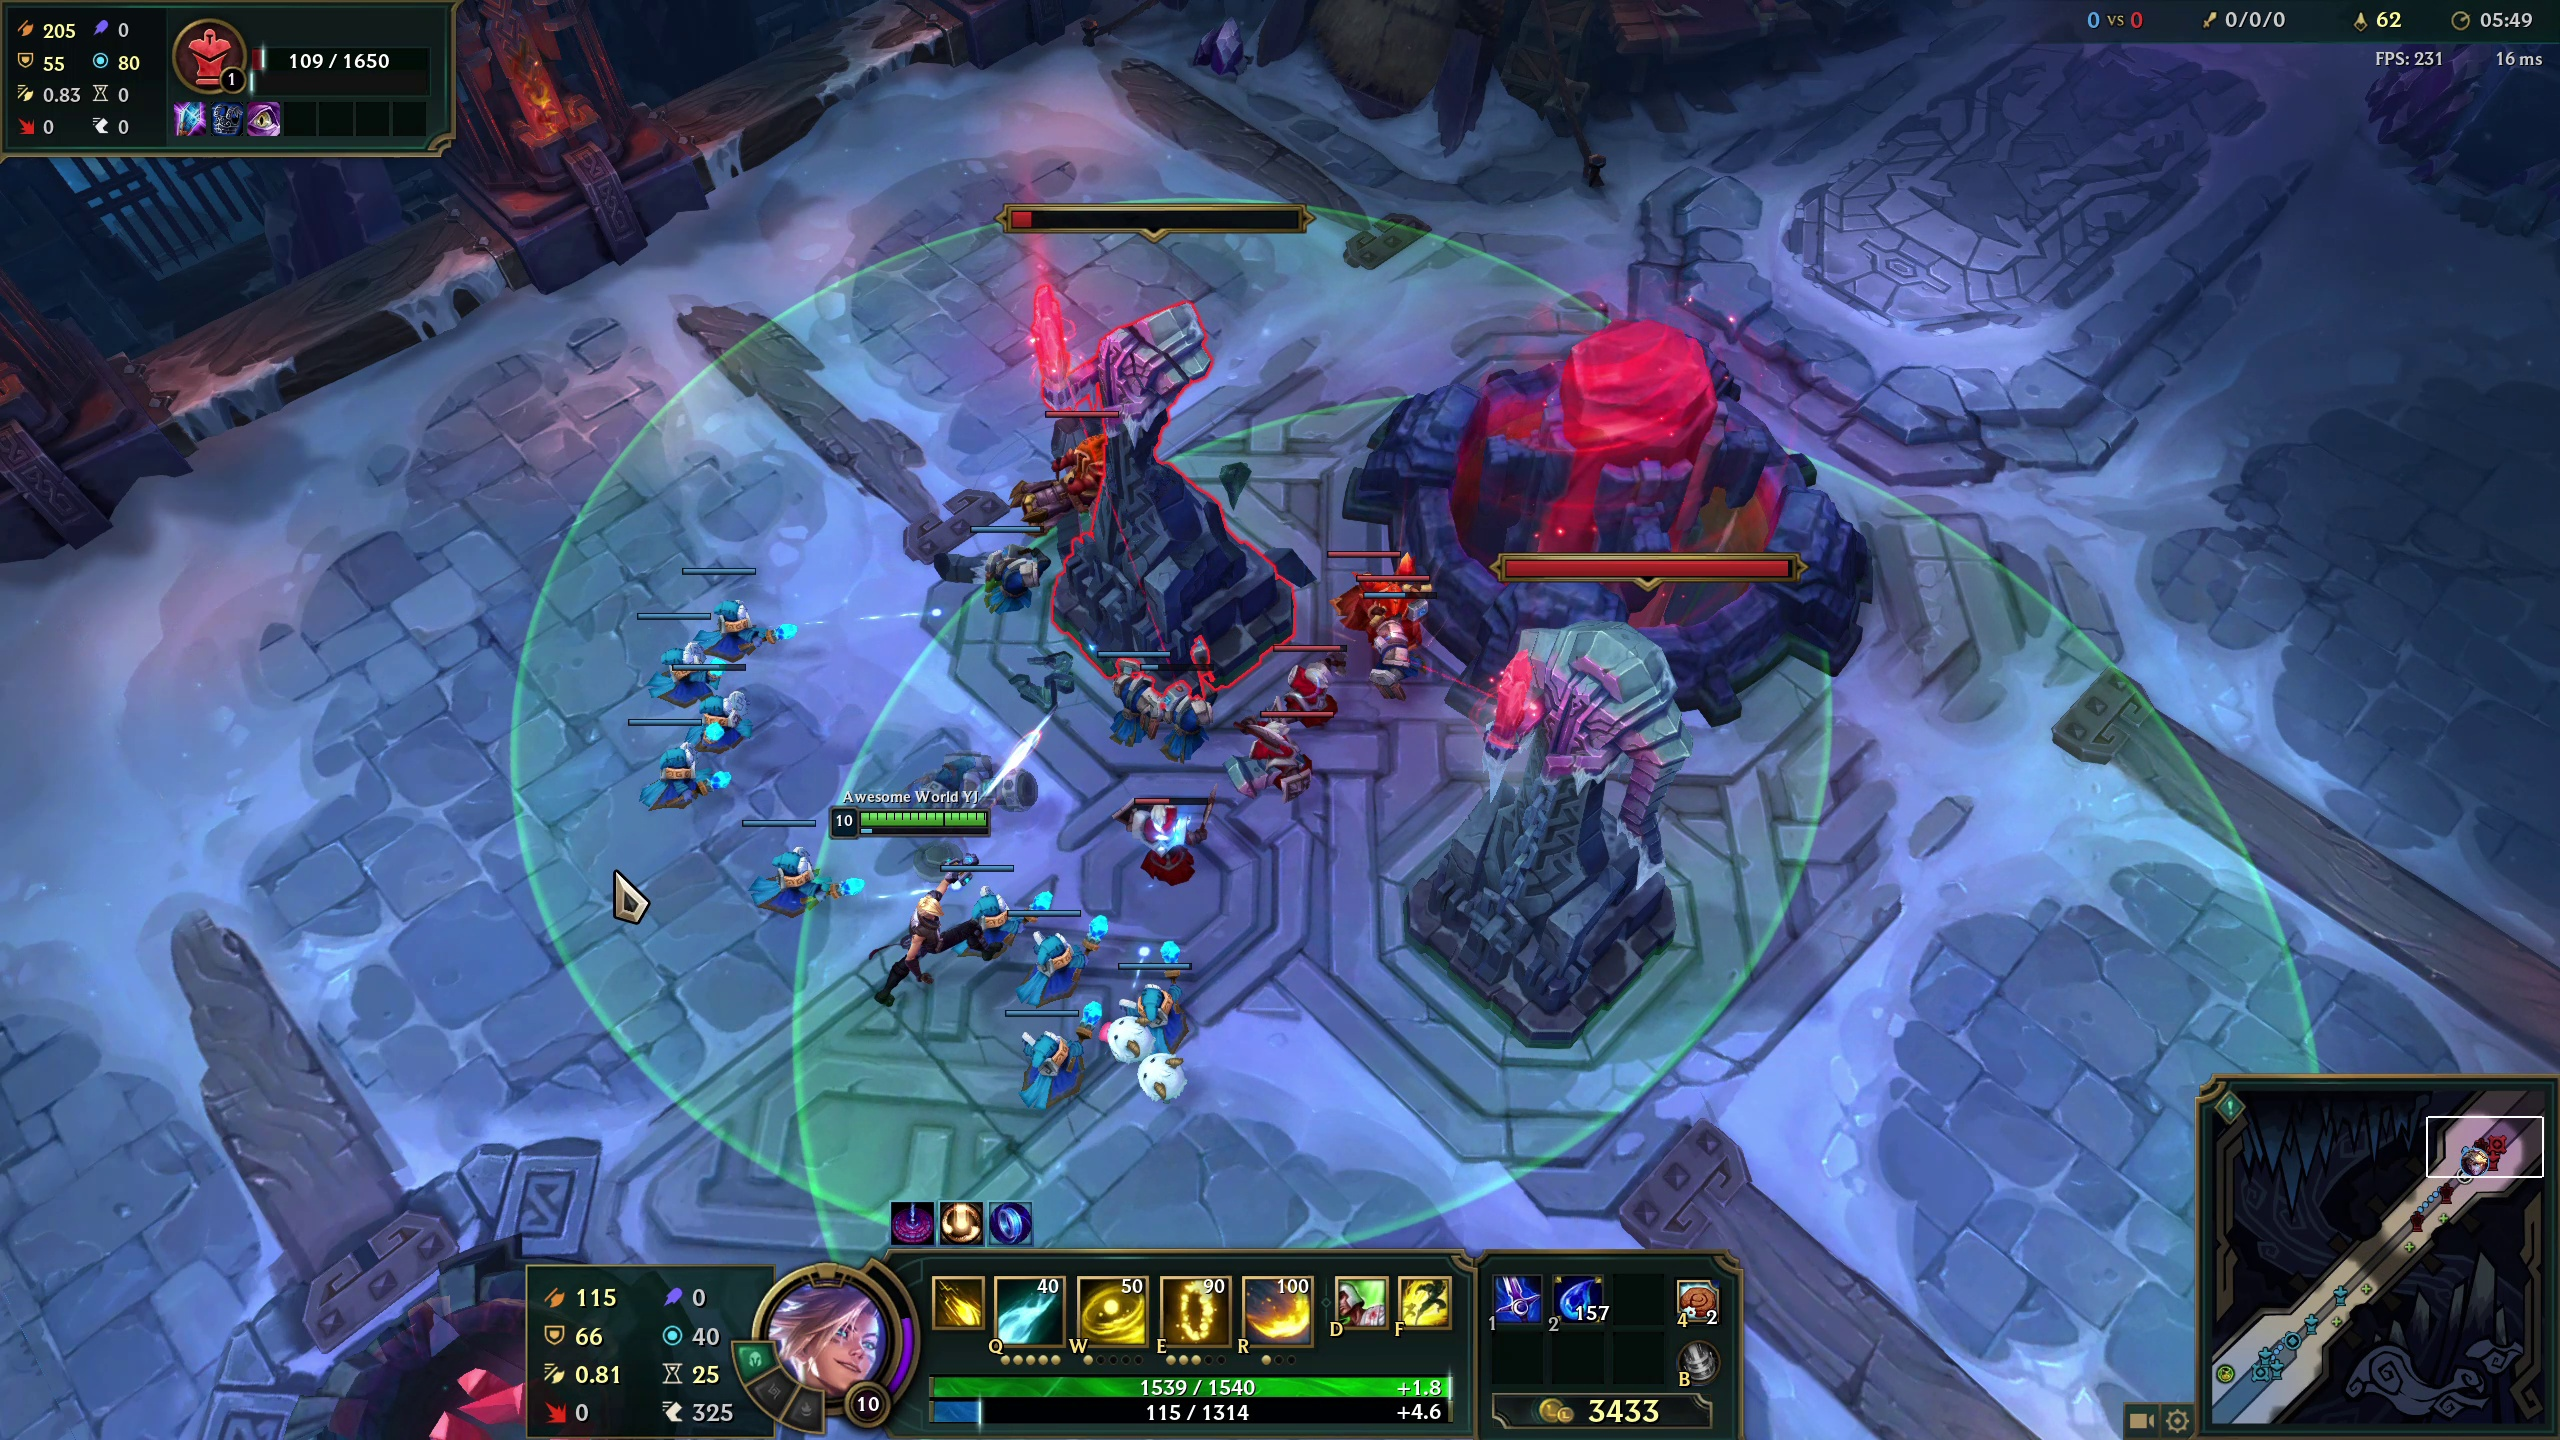EZ: (870, 870, 967, 1002)
EnemyMinion: (1320, 529, 1407, 640), (1271, 631, 1343, 714), (1136, 796, 1206, 877), (1359, 561, 1429, 642)
Inhibitor: (1444, 325, 1830, 624)
MyMinion: (675, 566, 795, 640), (652, 651, 772, 724), (614, 610, 733, 682), (624, 710, 744, 782), (716, 818, 833, 890), (920, 461, 1016, 538), (1002, 1023, 1092, 1085), (948, 874, 1036, 935), (1004, 914, 1092, 976), (1124, 976, 1211, 1036)
Turret: (1064, 304, 1306, 700), (1484, 636, 1656, 1029)
